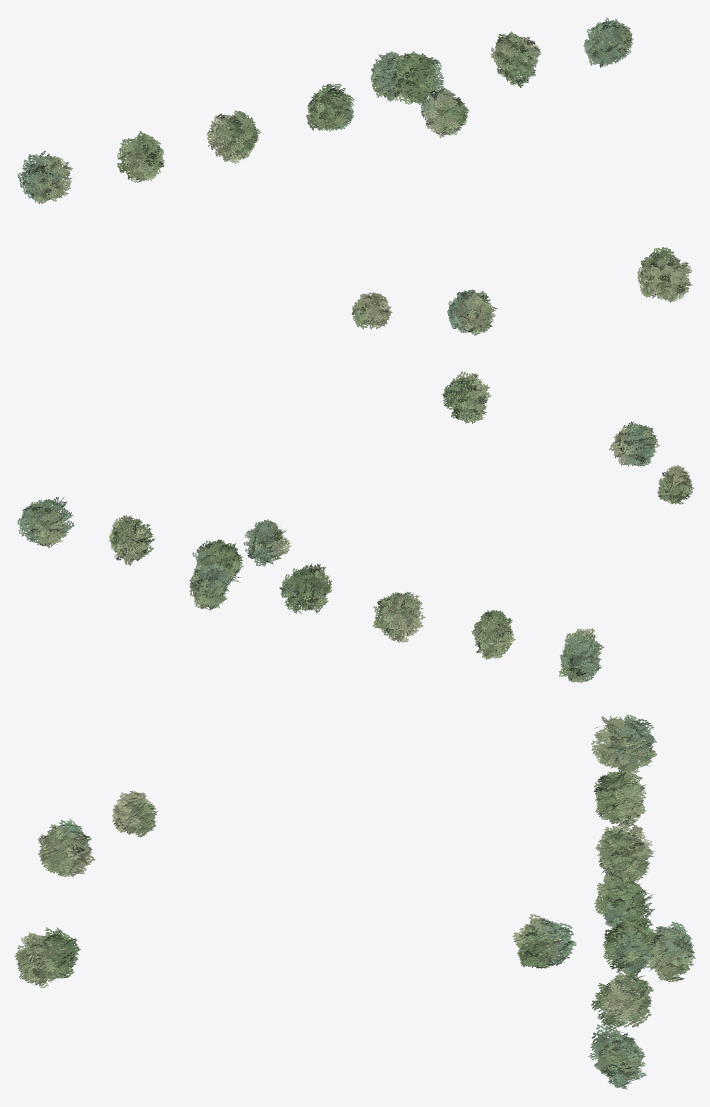
Rendered from campus-tree-0_-4-near.glb.
3 views of the same model, one above another, from view 1: azimuth 30°, elevation 25°; view 2: azimuth 150°, elevation 25°; view 3: azimuth 270°, elevation 25° (orthographic). The views are drawn at different scales.
Visible parts, largest first — view 1: Campus leaf canopy; view 2: Campus leaf canopy; view 3: Campus leaf canopy.
Boxes of the visible parts, x1,y1,x2,y2 form: Campus leaf canopy: [17, 17, 692, 335]; Campus leaf canopy: [17, 371, 694, 682]; Campus leaf canopy: [14, 714, 695, 1089].
Bounding box in the file's own units: 73.17 × 7.23 × 61.53.
Materials: 1 (1 with a texture image).
